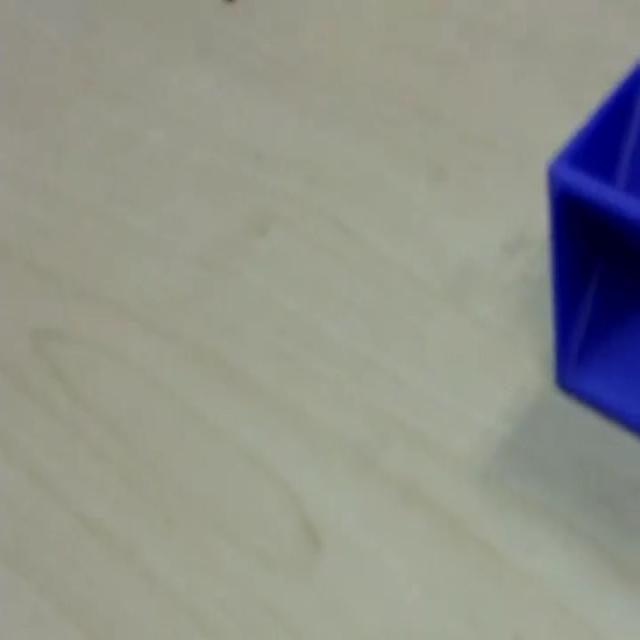blue_block: (546, 56, 638, 436)
